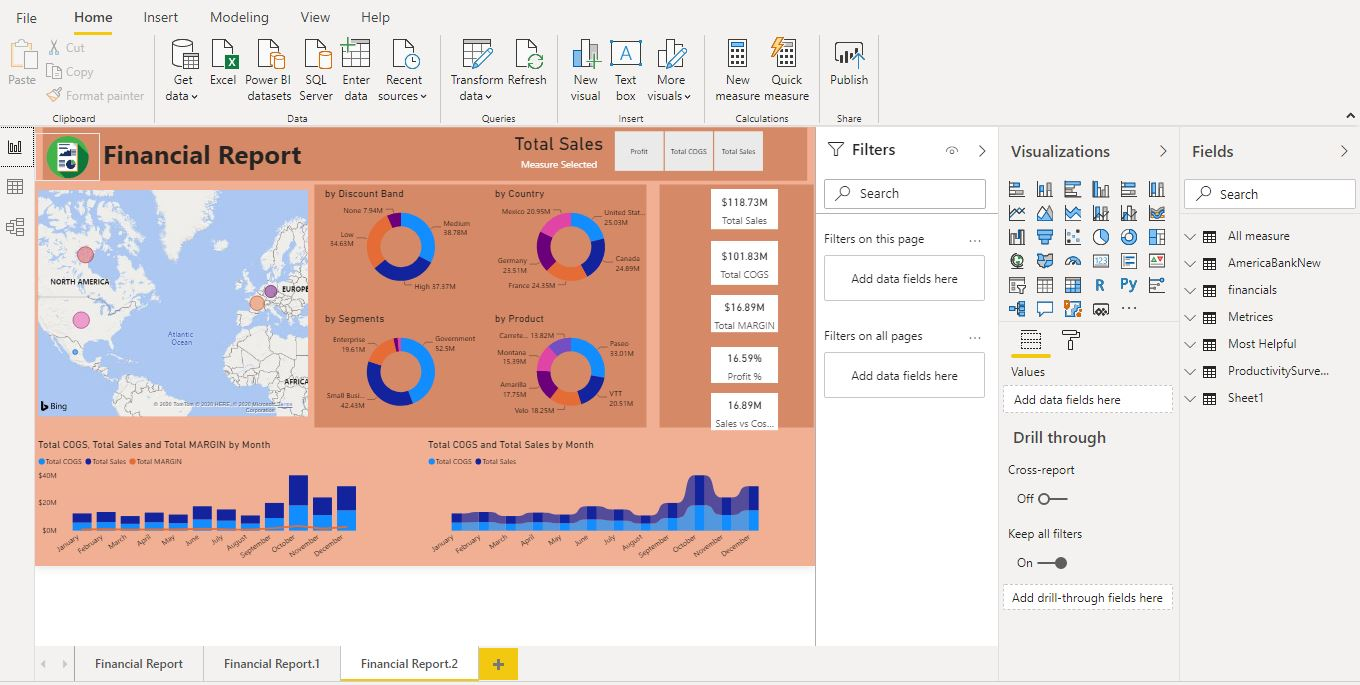

What the dashboard file says about the page in this screenshot:
{"tool":"powerbi","page":{"name":"Financial Report.2","canvas":[1280,720],"ordinal":2},"visuals":[{"type":"basicShape","box":[452.9,90.3,556.3,407],"z":0},{"type":"basicShape","box":[0,0,1280,88.6],"z":1000},{"type":"textbox","box":[106.7,9.8,336.4,124.7],"z":2000},{"type":"image","box":[0,9.8,106.7,78.8],"z":3000},{"type":"slicer","fields":{"Values":["Metrices.Measure"]},"box":[926.2,0,293,78.9],"z":8000},{"type":"card","fields":{"Values":["All measure.Measure Selected"]},"box":[749.9,0,219.9,72.2],"z":9000},{"type":"map","fields":{"Category":["financials.Country"],"Size":["financials.Total Sales"]},"box":[0,98.5,452.9,382.4],"z":10000},{"type":"donutChart","title":"by Country","fields":{"Category":["financials.Country"],"Y":["All measure.Measure Logic"]},"box":[749.9,98.5,259.3,177.2],"z":11000},{"type":"donutChart","title":"by Product","fields":{"Y":["All measure.Measure Logic"],"Category":["financials.Product"]},"box":[749.9,303.6,259.3,177.2],"z":12000},{"type":"donutChart","title":"by Segments","fields":{"Y":["All measure.Measure Logic"],"Category":["financials.Segment"]},"box":[471,303.6,259.3,177.2],"z":13000},{"type":"donutChart","title":"by Discount Band","fields":{"Y":["All measure.Measure Logic"],"Category":["financials.Discount Band"]},"box":[471,98.5,259.3,177.2],"z":14000},{"type":"lineStackedColumnComboChart","fields":{"Category":["financials.Date.Variation.Date Hierarchy.Year","financials.Date.Variation.Date Hierarchy.Quarter","financials.Date.Variation.Date Hierarchy.Month","financials.Date.Variation.Date Hierarchy.Day"],"Y":["financials.Total COGS","financials.Total Sales"],"Y2":["financials.Total MARGIN"]},"box":[0,510.4,548.1,210.1],"z":15000},{"type":"ribbonChart","fields":{"Category":["financials.Date.Variation.Date Hierarchy.Year","financials.Date.Variation.Date Hierarchy.Quarter","financials.Date.Variation.Date Hierarchy.Month","financials.Date.Variation.Date Hierarchy.Day"],"Y":["financials.Total COGS","financials.Total Sales"]},"box":[640,510.4,571.1,210.1],"z":16000},{"type":"basicShape","box":[1022.4,90.3,257.6,407],"z":17000},{"type":"card","fields":{"Values":["financials.Total Sales"]},"box":[1109.3,101.7,109.9,65.6],"z":20000},{"type":"card","fields":{"Values":["financials.Total COGS"]},"box":[1109.3,187.1,109.9,72.2],"z":21000},{"type":"card","fields":{"Values":["financials.Total MARGIN"]},"box":[1109.3,275.7,109.9,60.7],"z":22000},{"type":"card","fields":{"Values":["financials.Profit %"]},"box":[1108.7,360.6,110.4,58.6],"z":23000},{"type":"card","fields":{"Values":["financials.Sales vs Cost of Good sold"]},"box":[1108.7,437.2,110.4,60.8],"z":24000}]}

Visuals, with their boxes on the page's 1280x720 design canvas (x1, y1, x2, y2). These are canvas units, not pixel positions in the 1360x685 screenshot, which may show the page scaled, cropped or inside an application window:
basicShape: 453:90:1009:497
basicShape: 0:0:1280:89
textbox: 107:10:443:134
image: 0:10:107:89
slicer - Metrices.Measure: 926:0:1219:79
card - All measure.Measure Selected: 750:0:970:72
map - financials.Country x financials.Total Sales: 0:98:453:481
"by Country" donutChart: 750:98:1009:276
"by Product" donutChart: 750:304:1009:481
"by Segments" donutChart: 471:304:730:481
"by Discount Band" donutChart: 471:98:730:276
lineStackedColumnComboChart - financials.Date.Variation.Date Hierarchy.Year x financials.Date.Variation.Date Hierarchy.Quarter: 0:510:548:720
ribbonChart - financials.Date.Variation.Date Hierarchy.Year x financials.Date.Variation.Date Hierarchy.Quarter: 640:510:1211:720
basicShape: 1022:90:1280:497
card - financials.Total Sales: 1109:102:1219:167
card - financials.Total COGS: 1109:187:1219:259
card - financials.Total MARGIN: 1109:276:1219:336
card - financials.Profit %: 1109:361:1219:419
card - financials.Sales vs Cost of Good sold: 1109:437:1219:498
